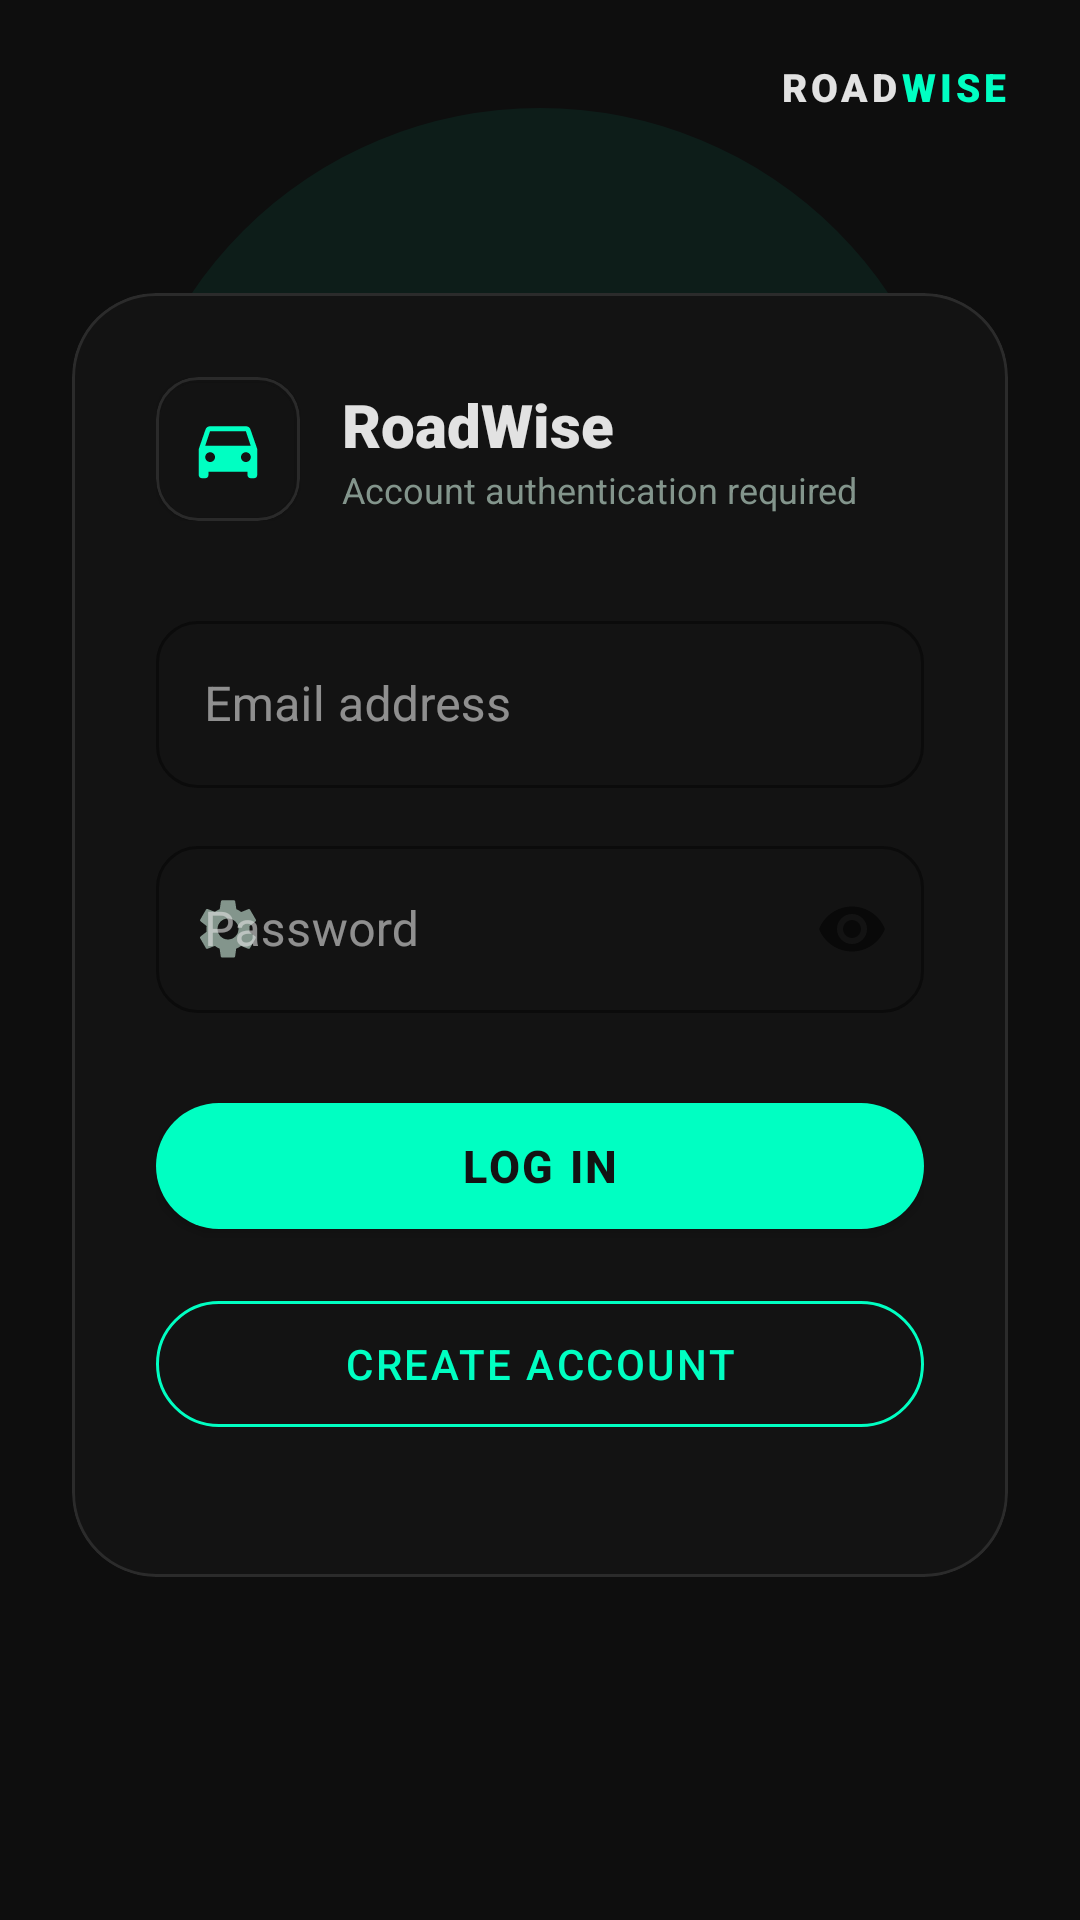

Icons on this 1080px×1920px Android screen, each with its box as (x1, y1, x2, y2):
drive: (198, 426, 258, 479)
